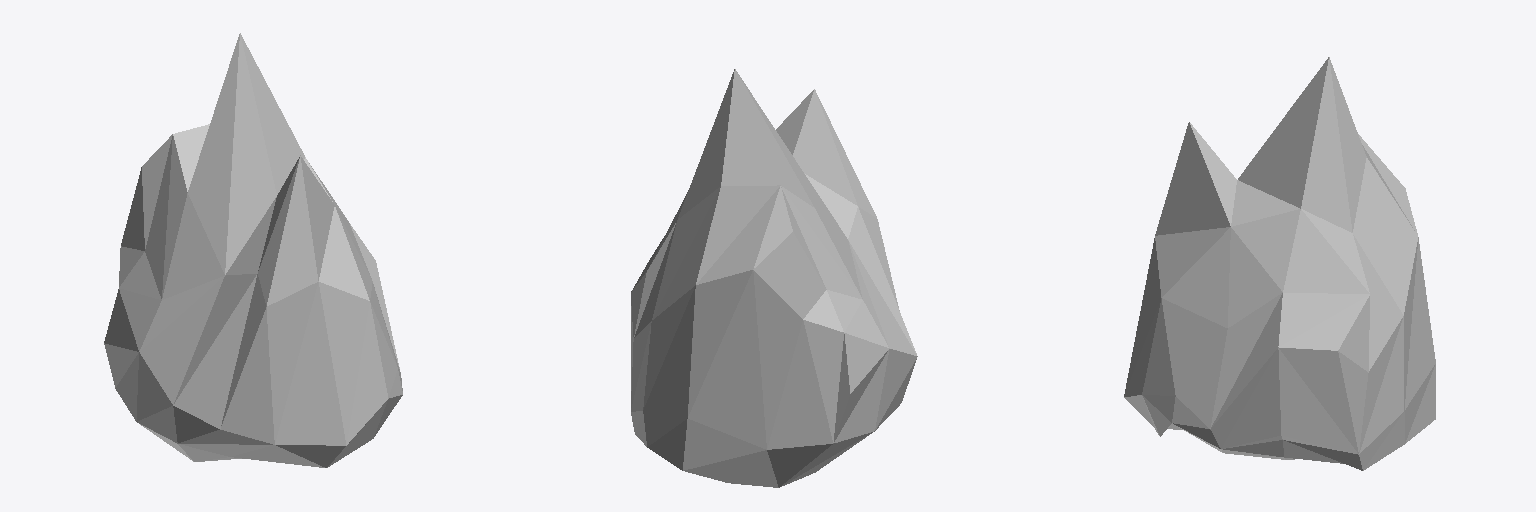
File: ice.obj
3 renders of one model, left to right at view 1: azimuth 30°, elevation 25°; view 2: azimuth 150°, elevation 25°; view 3: azimuth 270°, elevation 25°, orthographic.
Visible parts, largest first — view 1: Iceberg; view 2: Iceberg; view 3: Iceberg.
Part boxes in pixels (x1,y1,x2,y2): Iceberg: (104, 33, 402, 467); Iceberg: (631, 69, 917, 487); Iceberg: (1124, 57, 1435, 470).
Bounding box in the file's own units: 1.16 × 1.9 × 1.32.